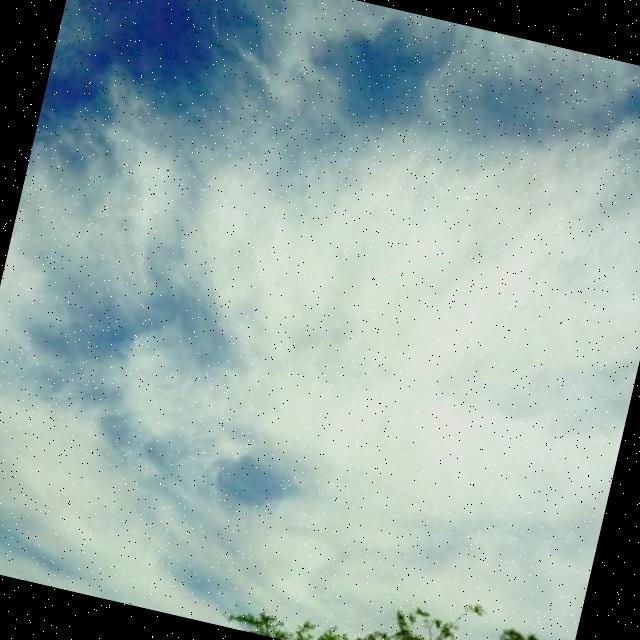Cs: (18, 1, 640, 566)
